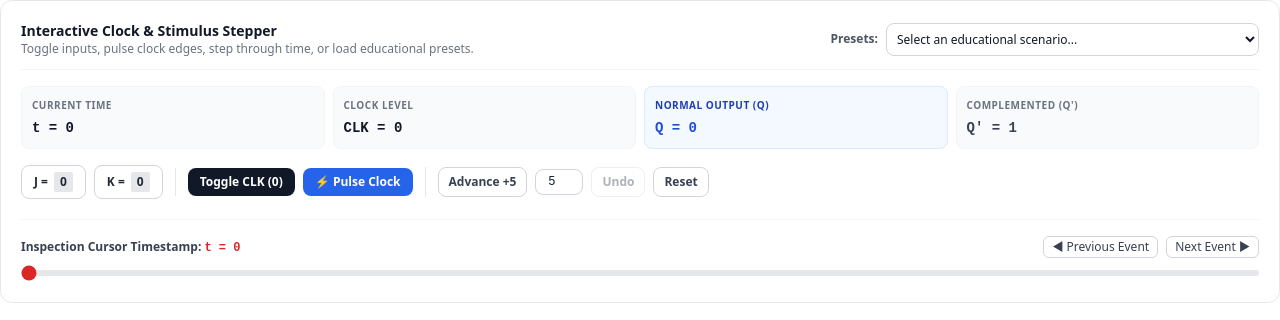
Test: ClockStepper › supports keyboard-only interactive scenario execution
Note: Keyboard activation with Enter/Space
Press Enter in the button named "Toggle input J", box [21,165,86,199]
Click the button named "Toggle input J": [53, 182] box [21,165,86,199]
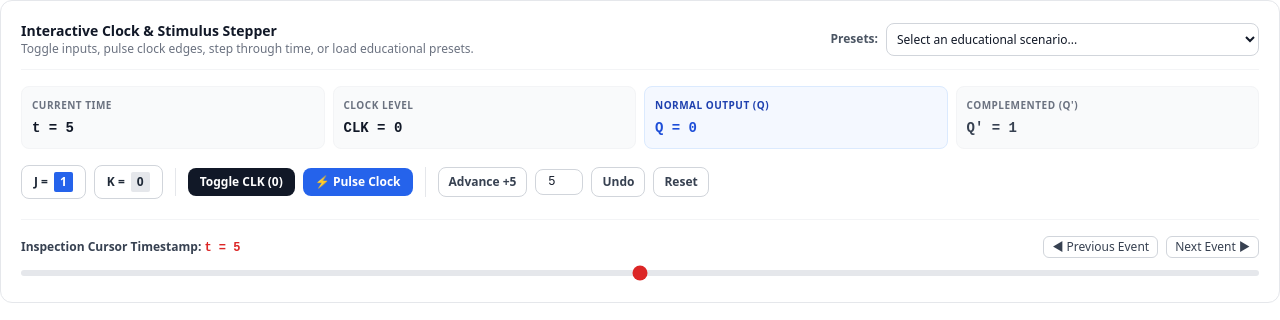
Press Enter in the button named "Toggle input K", box [94,165,163,199]
Click the button named "Toggle input K": [128, 182] box [94,165,163,199]
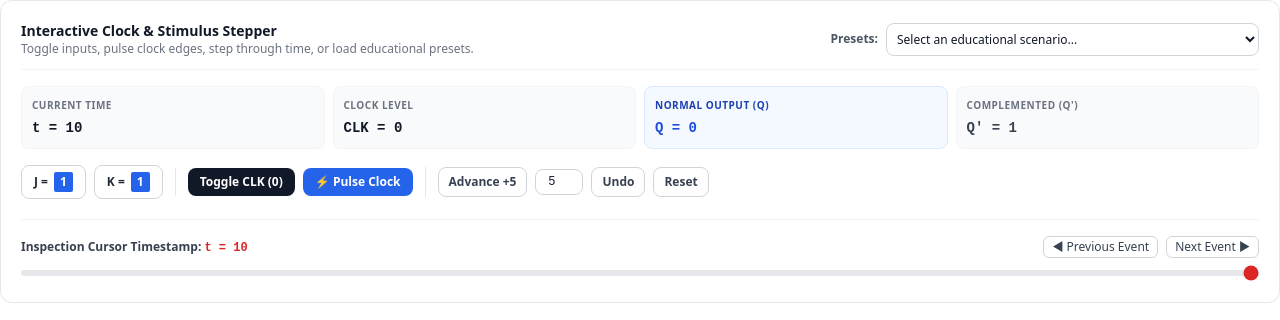
Press Space in the button with aria-label "Pulse clock full cycle", box [303,168,412,196]
Click the button with aria-label "Pulse clock full cycle": [358, 182] box [303,168,412,196]
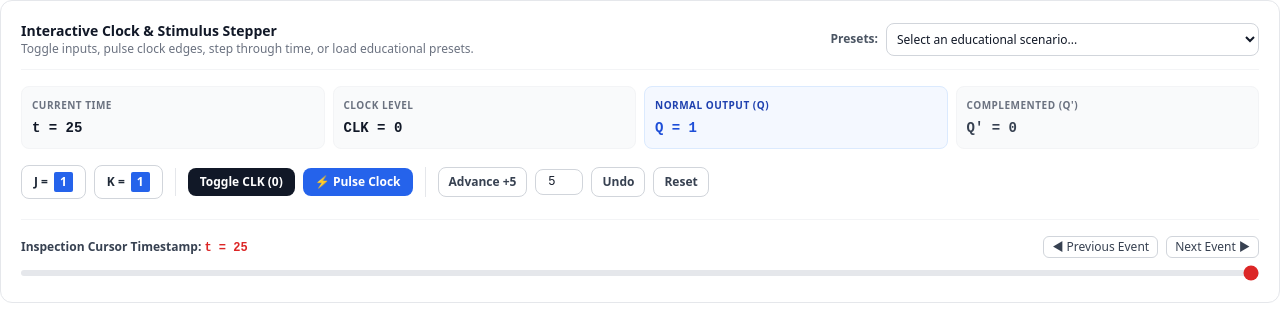
Expected: the text "Q = 1" is shown, [655,120,697,136]
